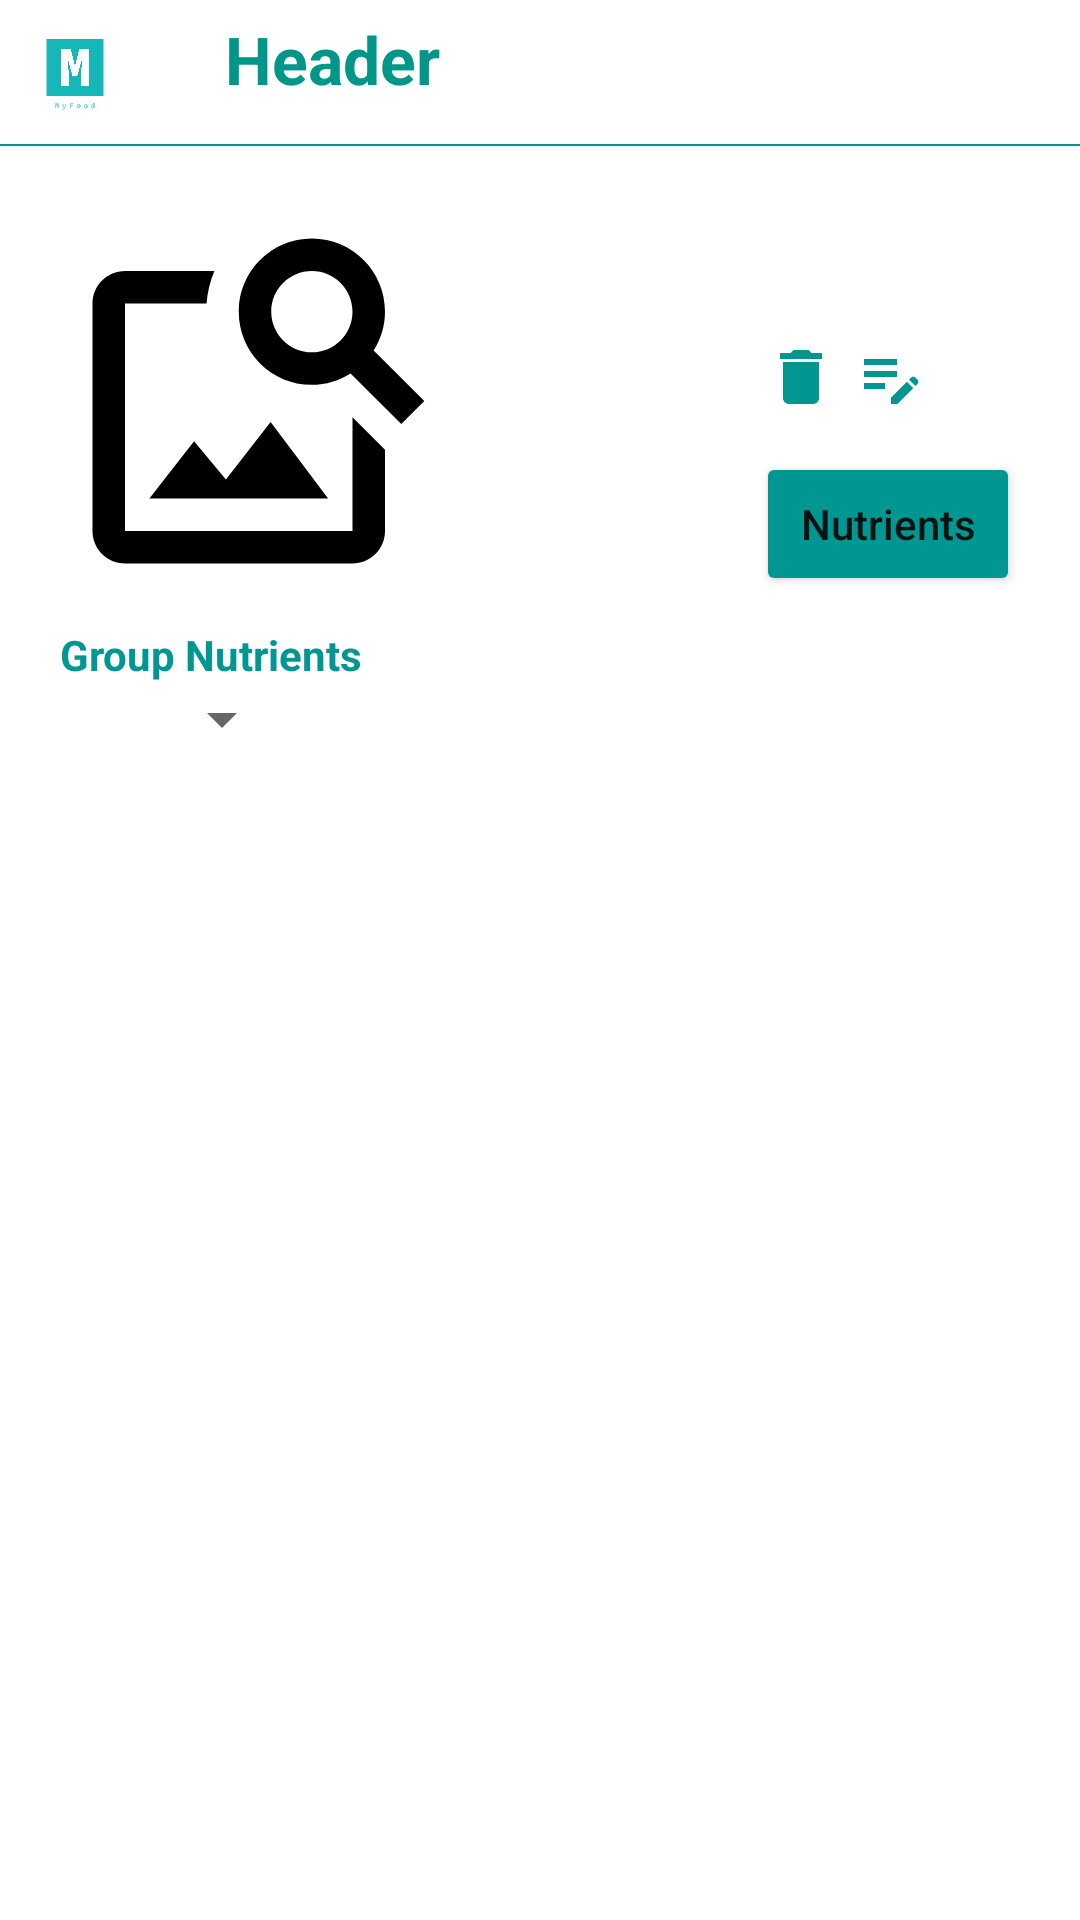

Locate icon controls on the screen. Image size 1080px x 1920px, boxes as bbox=(x1, y1, x2, y2).
delete: bbox=(780, 350, 822, 404)
edit note: bbox=(864, 359, 919, 404)
